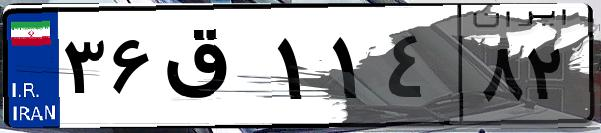1: (270, 28, 330, 110), (330, 28, 385, 110)
2: (525, 38, 570, 115)
3: (57, 26, 110, 100)
4: (385, 28, 445, 110)
6: (110, 28, 158, 98)
8: (475, 38, 525, 113)
ق: (158, 20, 270, 120)
